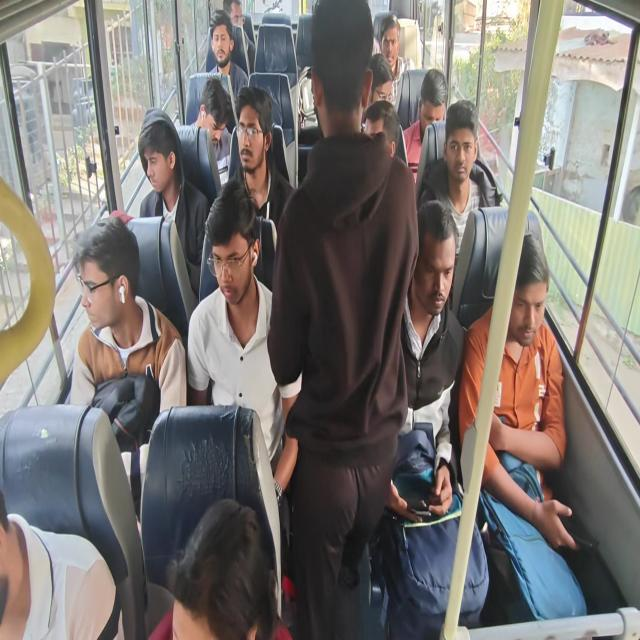person: (180, 473, 260, 640), (296, 8, 372, 141), (407, 200, 462, 332), (502, 244, 557, 358), (75, 223, 127, 329), (201, 220, 251, 315), (441, 104, 481, 187), (234, 97, 276, 170), (186, 72, 228, 144), (140, 118, 175, 182), (416, 72, 450, 128), (366, 106, 407, 152), (381, 8, 403, 63), (373, 51, 395, 104), (211, 17, 231, 63), (226, 0, 244, 25)
